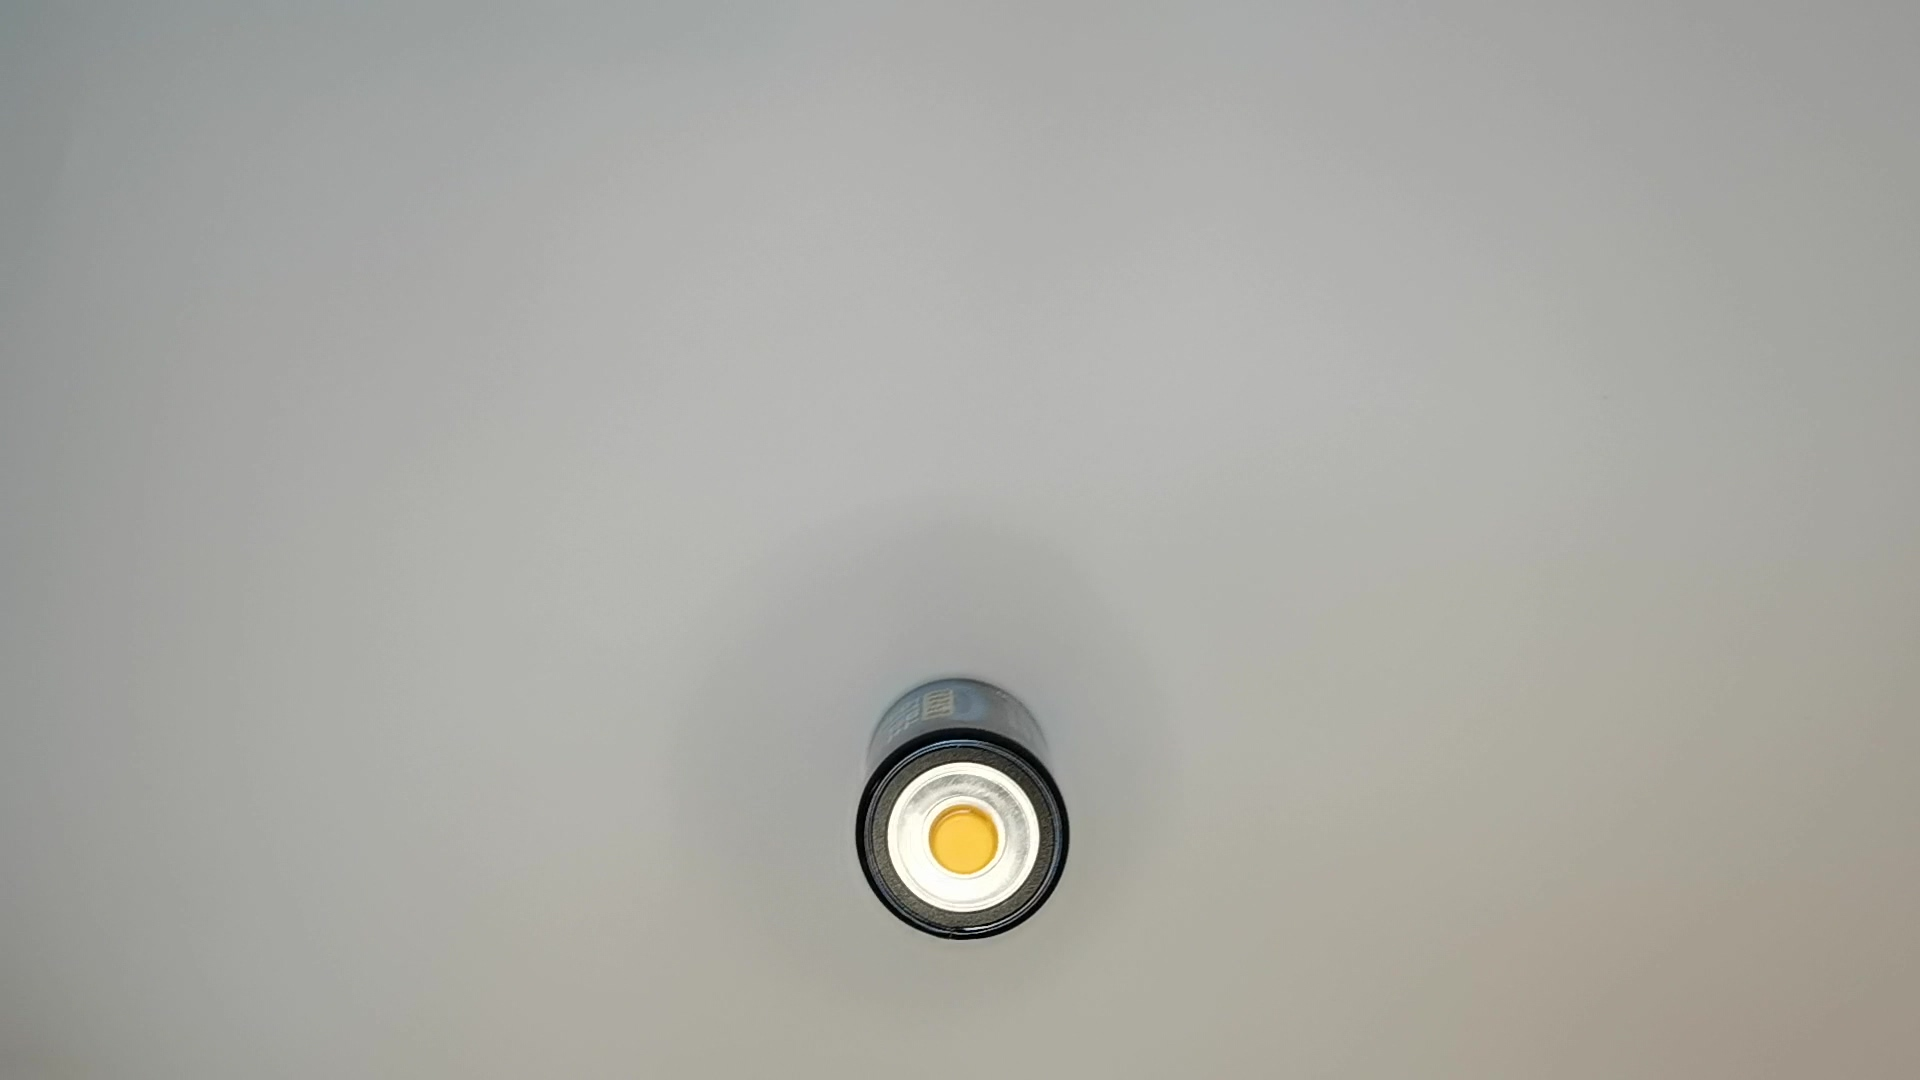battery: (851, 669, 1077, 952)
